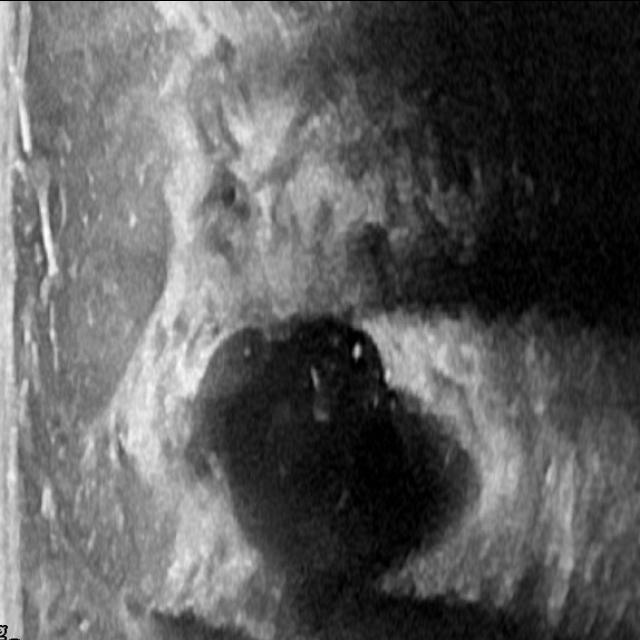Benign: (191, 321, 445, 575)
